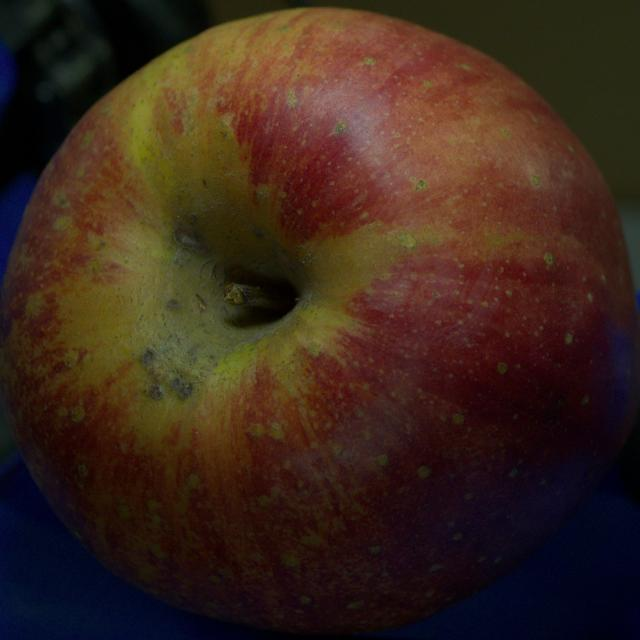apple: (0, 9, 639, 634)
pest: (174, 229, 208, 253), (179, 384, 192, 399), (141, 349, 154, 363), (150, 386, 162, 399), (166, 299, 179, 309)
scratch: (196, 293, 206, 311)
